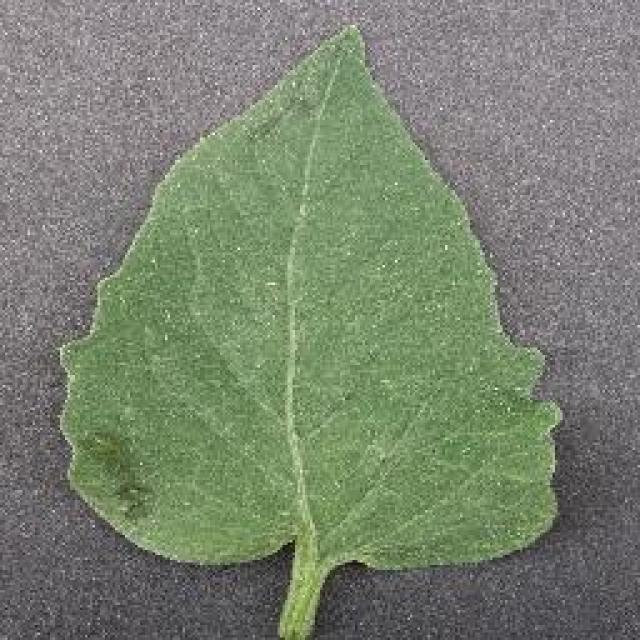healthy: (55, 22, 563, 635)
